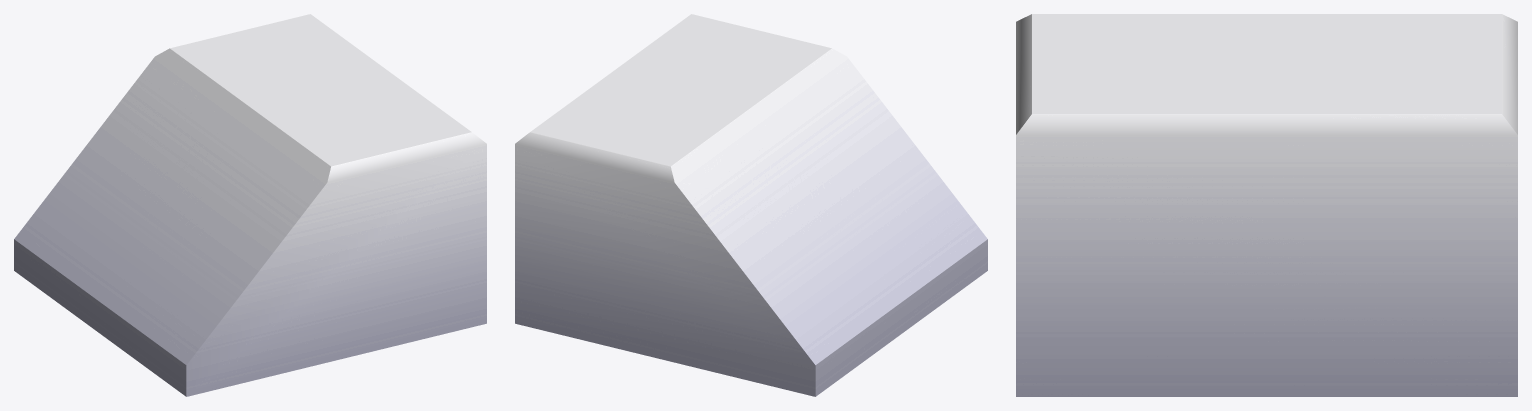
File: brick-kit--none-hq-brick-slope-2x2.glb
3 views of the same model, side by side, from view 1: azimuth 30°, elevation 25°; view 2: azimuth 150°, elevation 25°; view 3: azimuth 270°, elevation 25° (orthographic). The views are drawn at different scales.
Parts seen in each view (by area): view 1: none-hq-brick-slope-2x2; view 2: none-hq-brick-slope-2x2; view 3: none-hq-brick-slope-2x2.
Part boxes in pixels (<box>): none-hq-brick-slope-2x2: <box>14,14,486,396</box>; none-hq-brick-slope-2x2: <box>515,14,987,396</box>; none-hq-brick-slope-2x2: <box>1016,14,1517,396</box>.
Bounding box in the file's own units: 0.159 × 0.096 × 0.158.
Materials: 1 (1 with a texture image).
